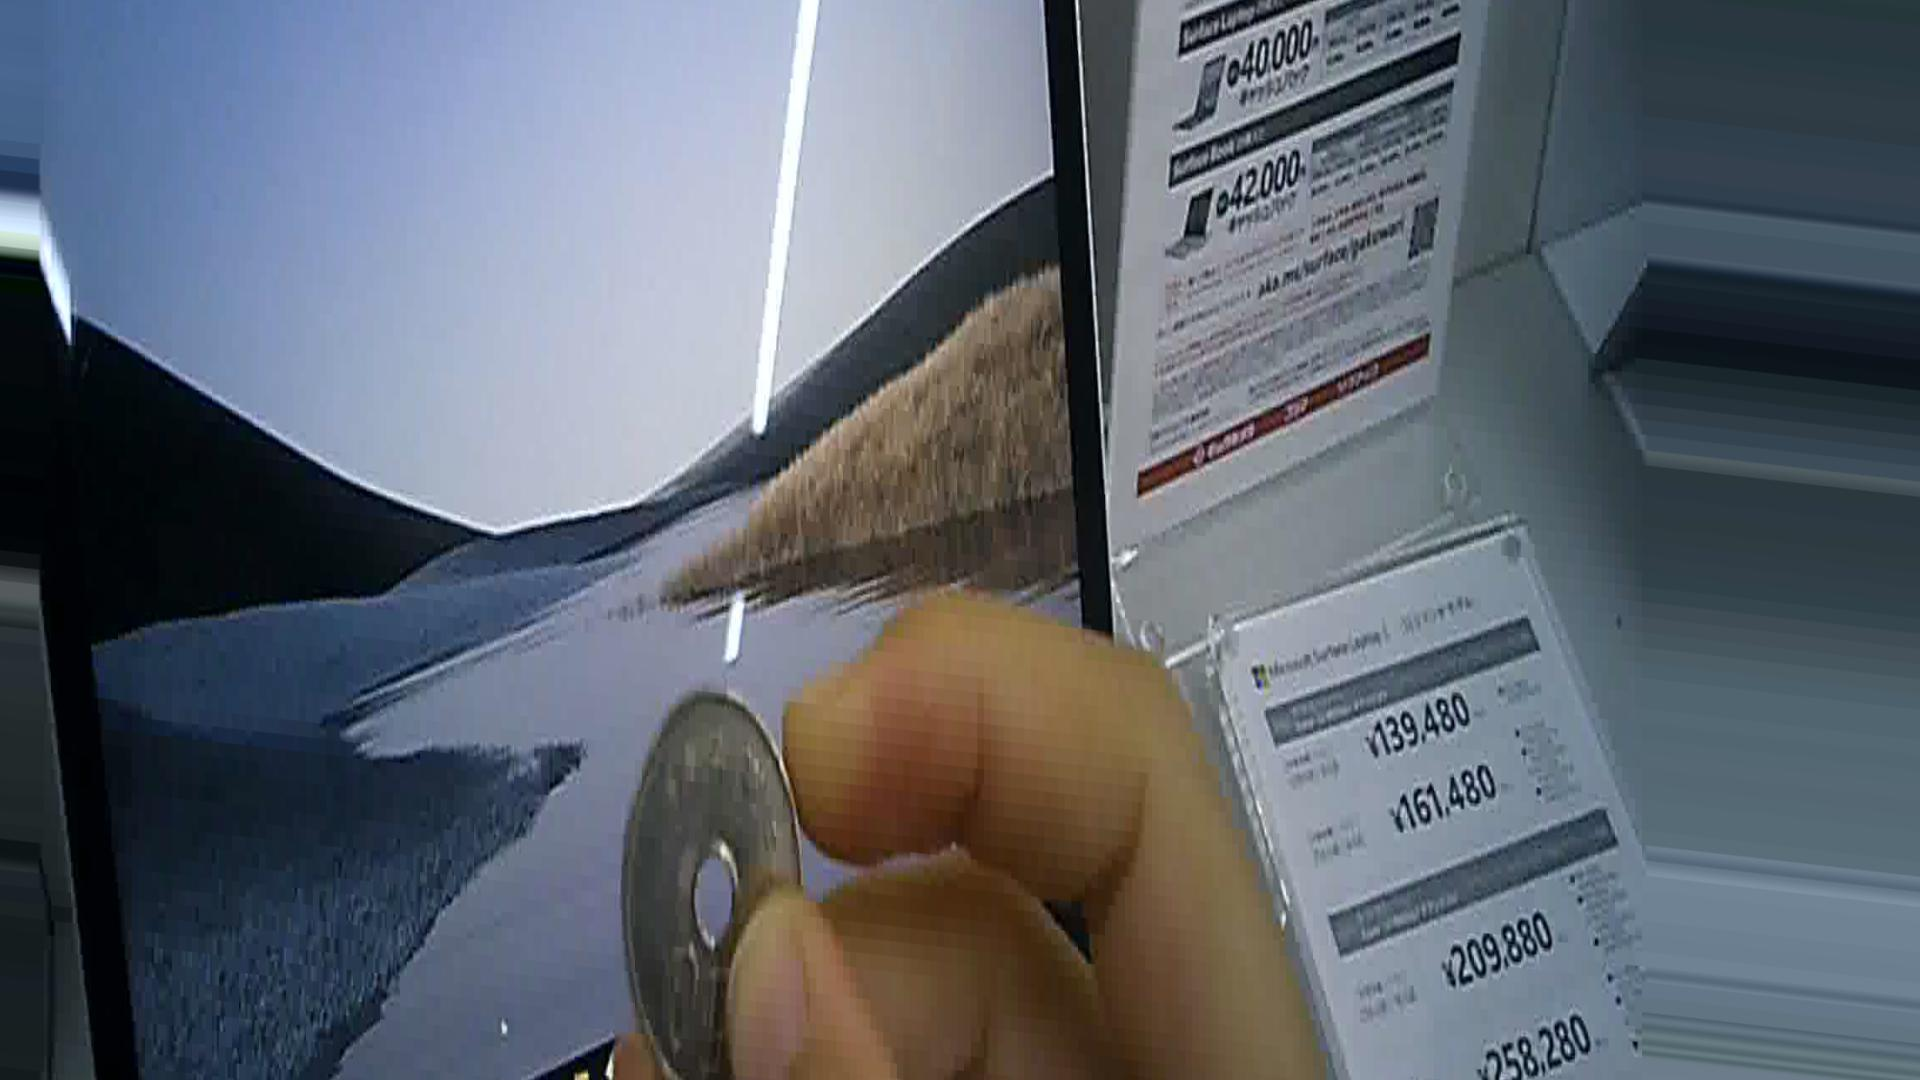50 Yen: (608, 676, 804, 1079)
